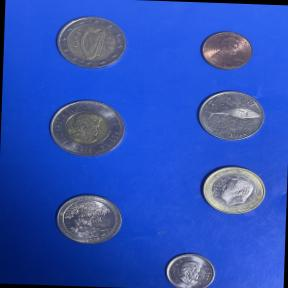coin: (42, 94, 132, 164), (50, 10, 132, 72), (50, 189, 129, 249), (192, 86, 270, 146), (195, 161, 270, 220), (197, 26, 256, 74), (158, 248, 220, 288)
